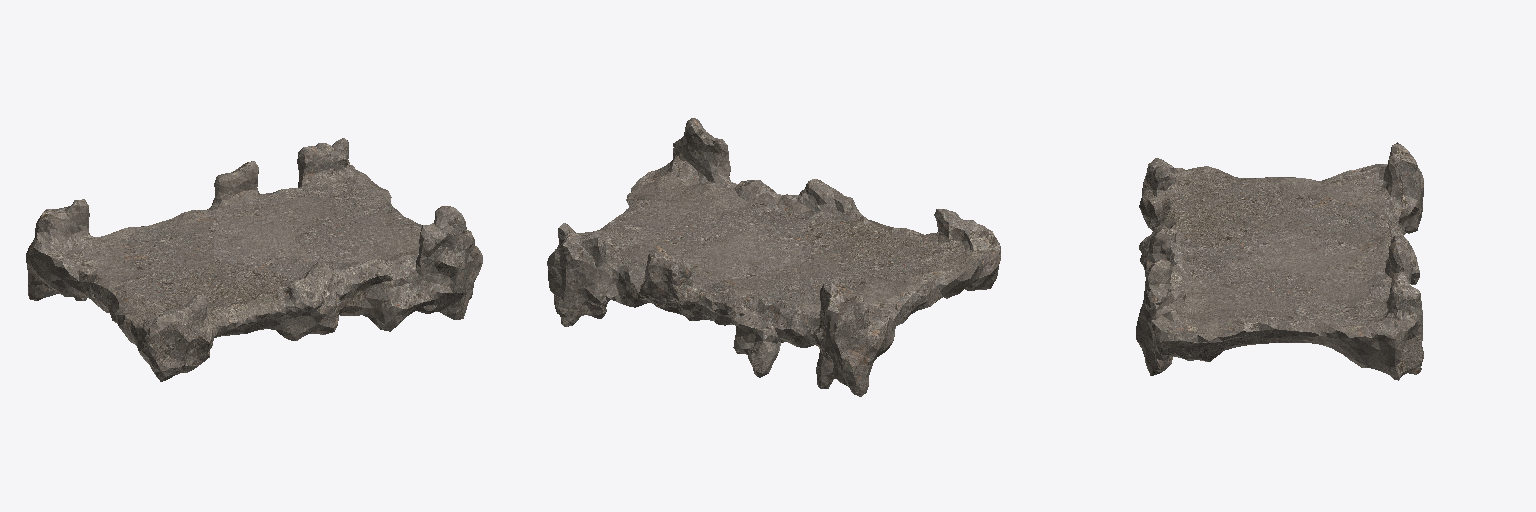
3 renders of one model, left to right at view 1: azimuth 30°, elevation 25°; view 2: azimuth 150°, elevation 25°; view 3: azimuth 270°, elevation 25°, orthographic.
Visible parts, largest first — view 1: StoneBridge; view 2: StoneBridge; view 3: StoneBridge.
Boxes of the visible parts, <box> form: StoneBridge: <box>26,138,482,381</box>; StoneBridge: <box>547,118,1000,396</box>; StoneBridge: <box>1136,142,1423,380</box>.
Size of the model in its own units: 3.8 by 1.28 by 2.74.
1 materials, 1 textured.